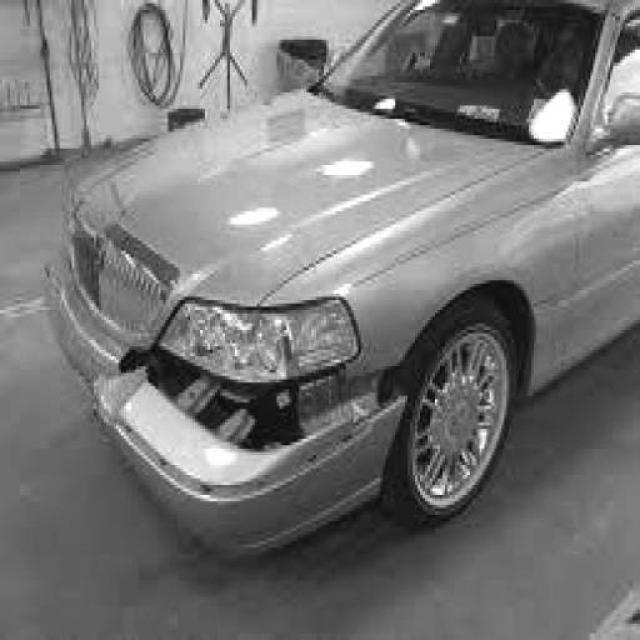car damage: (98, 344, 408, 500)
